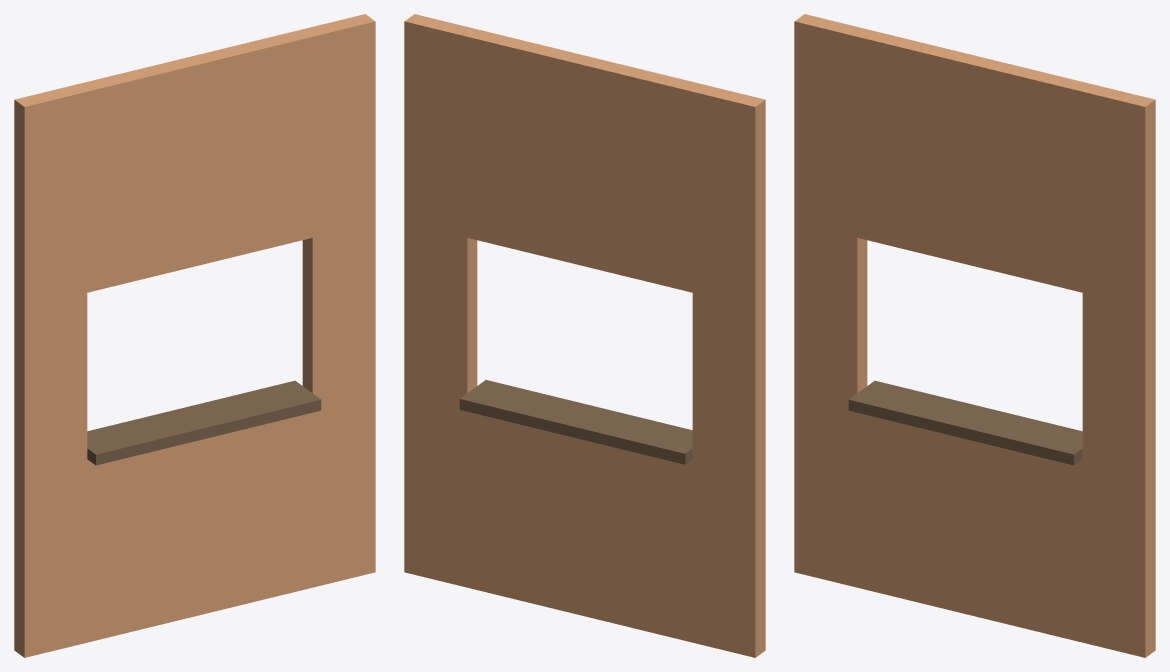
The model's file is Mesh_Wall_D3.fbx.
The picture shows the model from 3 angles, left to right: view 1: azimuth 30°, elevation 25°; view 2: azimuth 150°, elevation 25°; view 3: azimuth 330°, elevation 25°; orthographic projection.
Visible parts, largest first — view 1: Mesh_Wall_D3; view 2: Mesh_Wall_D3; view 3: Mesh_Wall_D3.
Part boxes in pixels (<box>): Mesh_Wall_D3: <box>14,14,375,657</box>; Mesh_Wall_D3: <box>404,14,765,657</box>; Mesh_Wall_D3: <box>794,14,1155,657</box>.
Bounding box in the file's own units: 2 × 3 × 0.2574.
